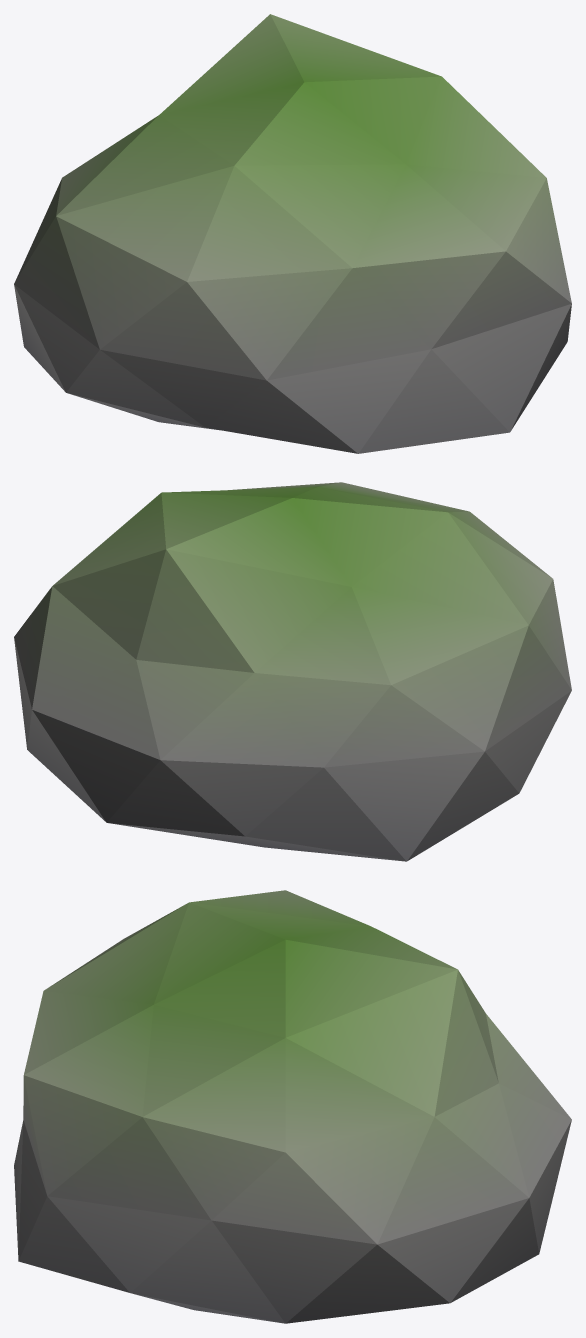
The model's file is f_rock3.glb.
3 views of the same model, one above another, from view 1: azimuth 30°, elevation 25°; view 2: azimuth 150°, elevation 25°; view 3: azimuth 270°, elevation 25° (orthographic). The views are drawn at different scales.
Parts seen in each view (by area): view 1: rock3; view 2: rock3; view 3: rock3.
Boxes of the visible parts, box(x1,y1,x2,y2) form: rock3: box(14, 14, 571, 453); rock3: box(14, 482, 571, 861); rock3: box(14, 890, 571, 1323).
Size of the model in its own units: 1.32 by 0.7709 by 1.24.
